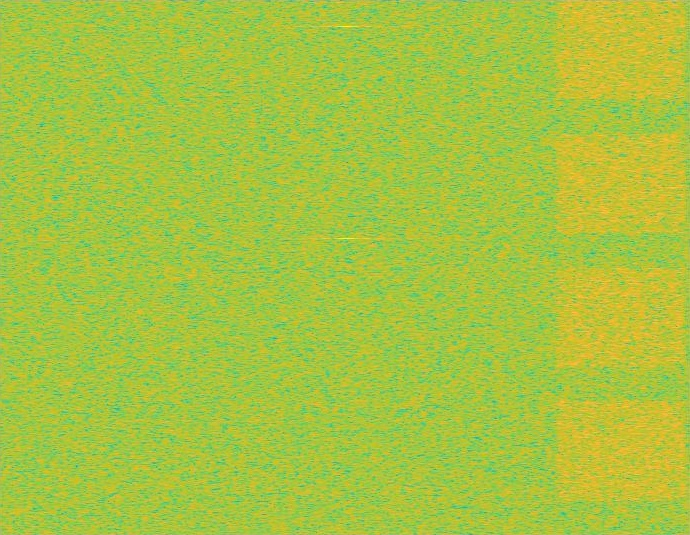5G: (552, 0, 689, 534)
Radar: (340, 0, 354, 534)
